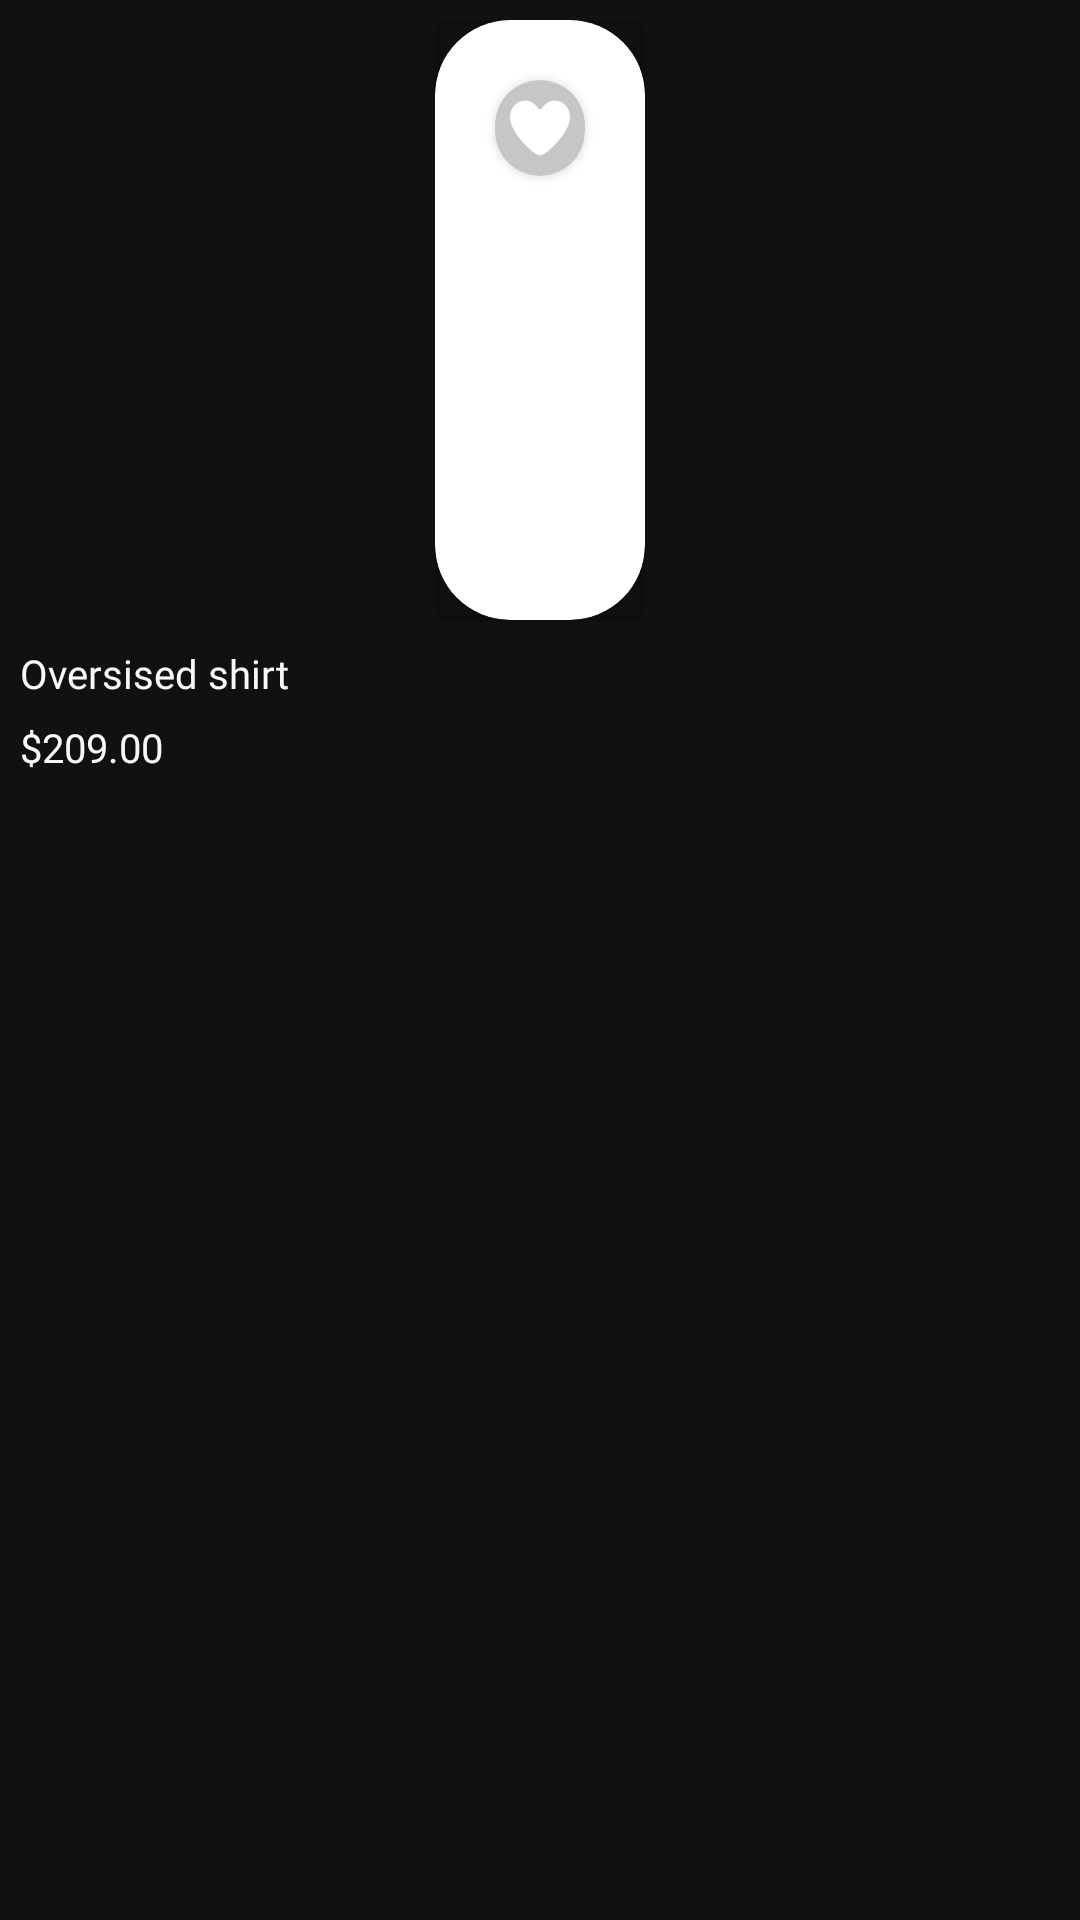

Icons on this 1080px x 1920px Android screen, each with the point to tap as (x=x, y=y):
heart: (x=540, y=127)
